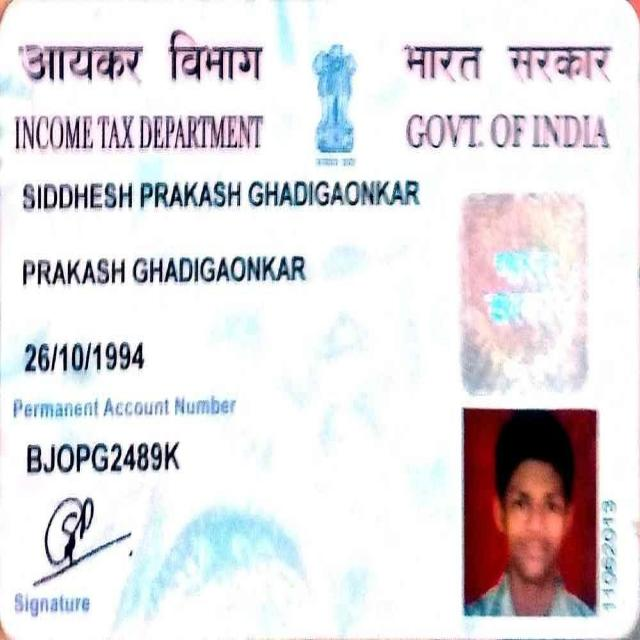pan_card: (5, 8, 634, 638)
